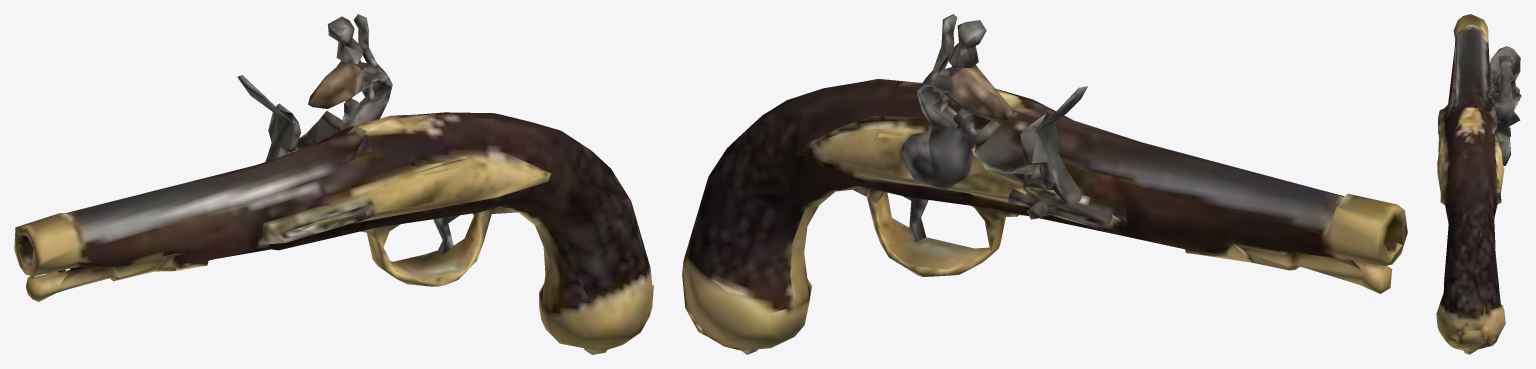
The picture shows the model from 3 angles, left to right: view 1: azimuth 30°, elevation 25°; view 2: azimuth 150°, elevation 25°; view 3: azimuth 270°, elevation 25°; orthographic projection. The views are drawn at different scales.
Visible parts, largest first — view 1: Mesh_0.002; view 2: Mesh_0.002; view 3: Mesh_0.002.
Part boxes in pixels (x1,y1,x2,y2): Mesh_0.002: [14, 14, 653, 354]; Mesh_0.002: [682, 14, 1407, 354]; Mesh_0.002: [1436, 14, 1521, 354].
Bounding box in the file's own units: 0.2123 × 0.1199 × 0.0404.
1 material, 1 textured.
